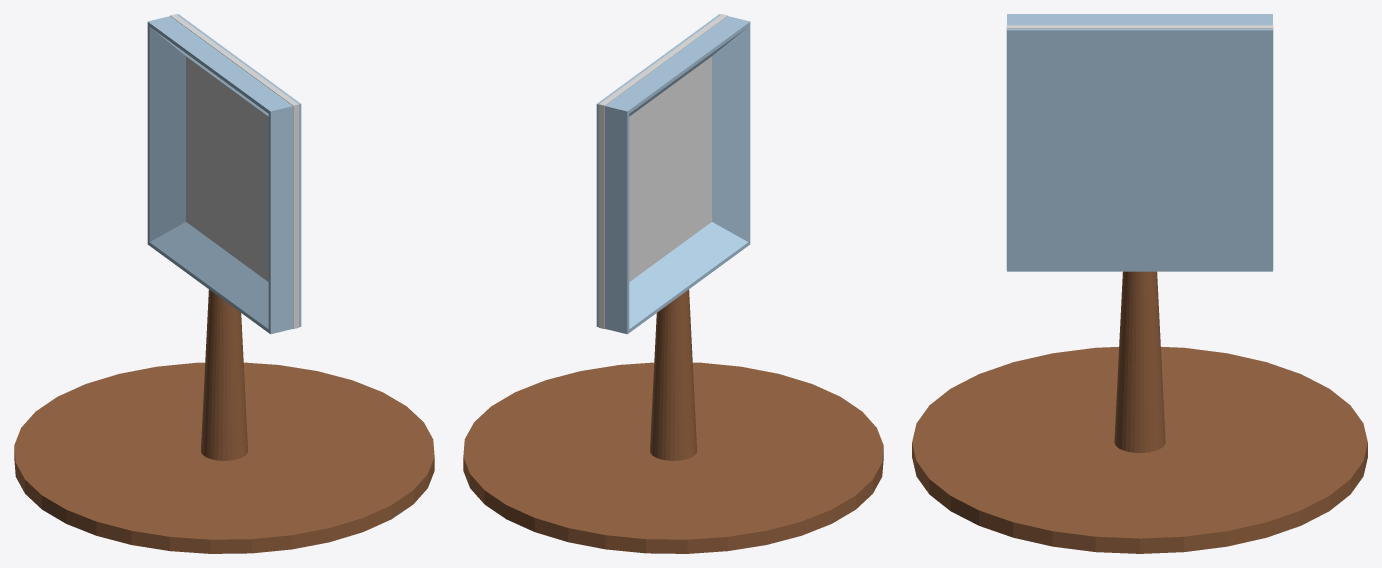
The model's file is laser_mirror.glb.
3 views of the same model, side by side, from view 1: azimuth 30°, elevation 25°; view 2: azimuth 150°, elevation 25°; view 3: azimuth 270°, elevation 25° (orthographic). The views are drawn at different scales.
Visible parts, largest first — view 1: Circle, Cube, Cube.001, TRI_C_MIRROR_INV; view 2: Circle, Cube, Cube.001, TRI_C_MIRROR_INV; view 3: Circle, Cube, TRI_C_MIRROR_INV.
Part boxes in pixels (box(x1,y1,x2,y2)): Circle: box(14, 282, 434, 553); Cube: box(147, 14, 301, 334); Cube.001: box(186, 56, 268, 281); TRI_C_MIRROR_INV: box(170, 14, 298, 328); Circle: box(463, 282, 883, 553); Cube: box(596, 14, 750, 334); Cube.001: box(629, 56, 711, 281); TRI_C_MIRROR_INV: box(599, 14, 727, 328); Circle: box(912, 271, 1367, 553); Cube: box(1007, 14, 1272, 271); TRI_C_MIRROR_INV: box(1006, 25, 1273, 269).
Bounding box in the file's own units: 2 × 2.11 × 2.
